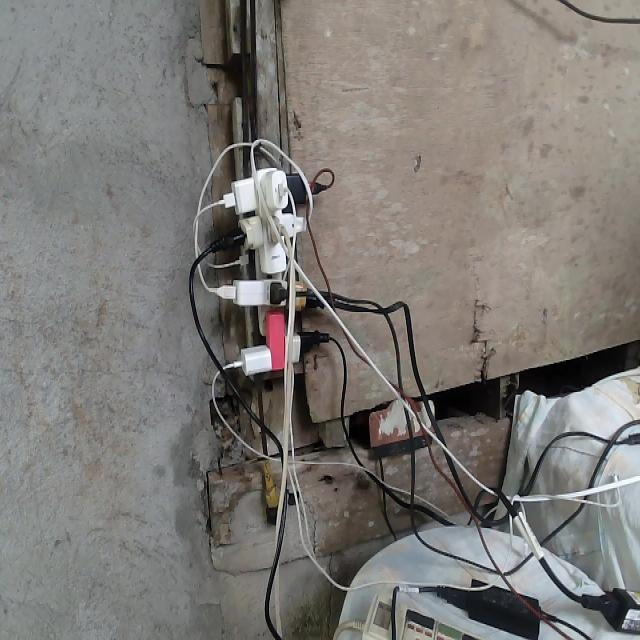-: (206, 164, 334, 376)
